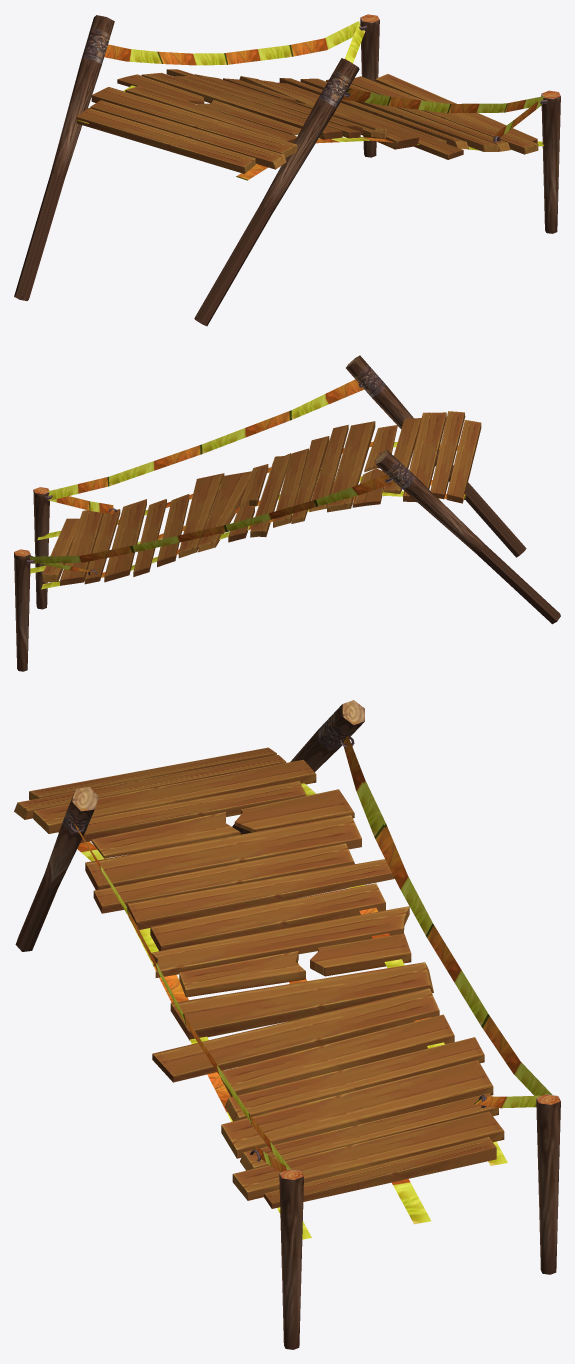
The model's file is qiao_006.FBX.
3 renders of one model, top to bottom at view 1: azimuth 30°, elevation 25°; view 2: azimuth 150°, elevation 25°; view 3: azimuth 270°, elevation 25°, orthographic. The views are drawn at different scales.
Visible parts, largest first — view 1: qiao_006, Group004; view 2: qiao_006, Group004; view 3: qiao_006, Group004.
Boxes of the visible parts, x1,y1,x2,y2 form: qiao_006: (14, 14, 560, 326); Group004: (76, 21, 544, 180); qiao_006: (14, 355, 560, 671); Group004: (29, 379, 466, 589); qiao_006: (14, 700, 560, 1349); Group004: (58, 735, 552, 1239).
Size of the model in its own units: 1638 by 817 by 1060.
2 materials, 2 textured.
